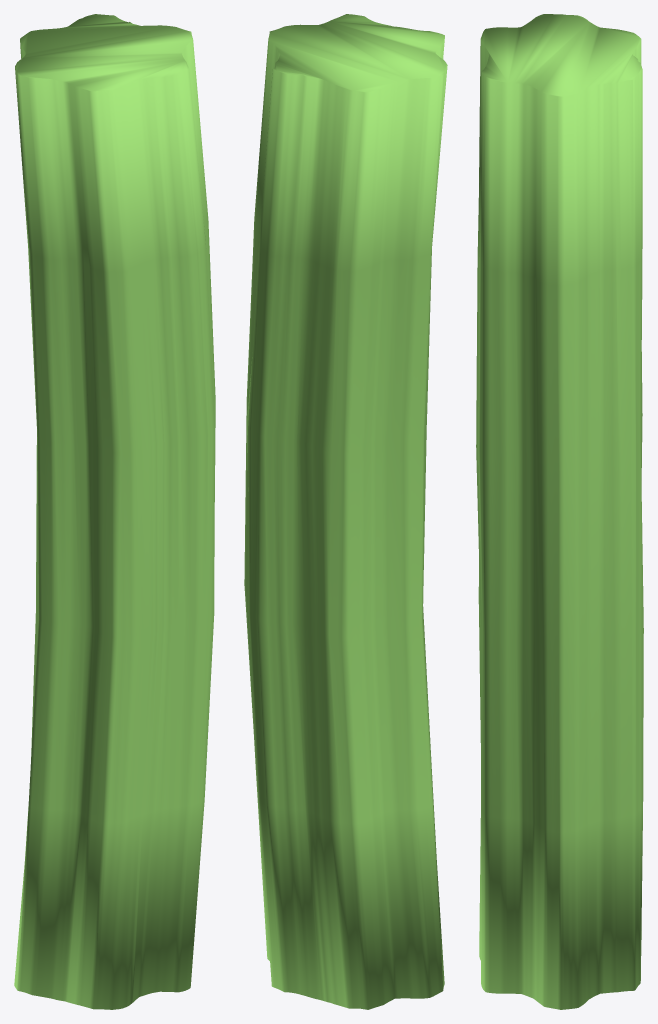
Rendered from SourStraw.glb.
3 views of the same model, side by side, from view 1: azimuth 30°, elevation 25°; view 2: azimuth 150°, elevation 25°; view 3: azimuth 270°, elevation 25° (orthographic).
Parts seen in each view (by area): view 1: SourStraw; view 2: SourStraw; view 3: SourStraw.
Part boxes in pixels (x1,y1,x2,y2): SourStraw: (14, 14, 215, 1009); SourStraw: (244, 14, 447, 1009); SourStraw: (476, 14, 643, 1009).
Bounding box in the file's own units: 0.2448 × 1.11 × 0.1832.
